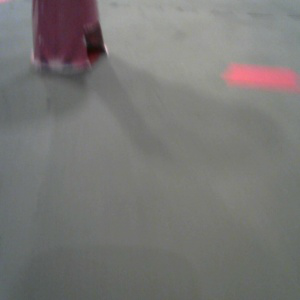middle: (29, 1, 109, 72)
